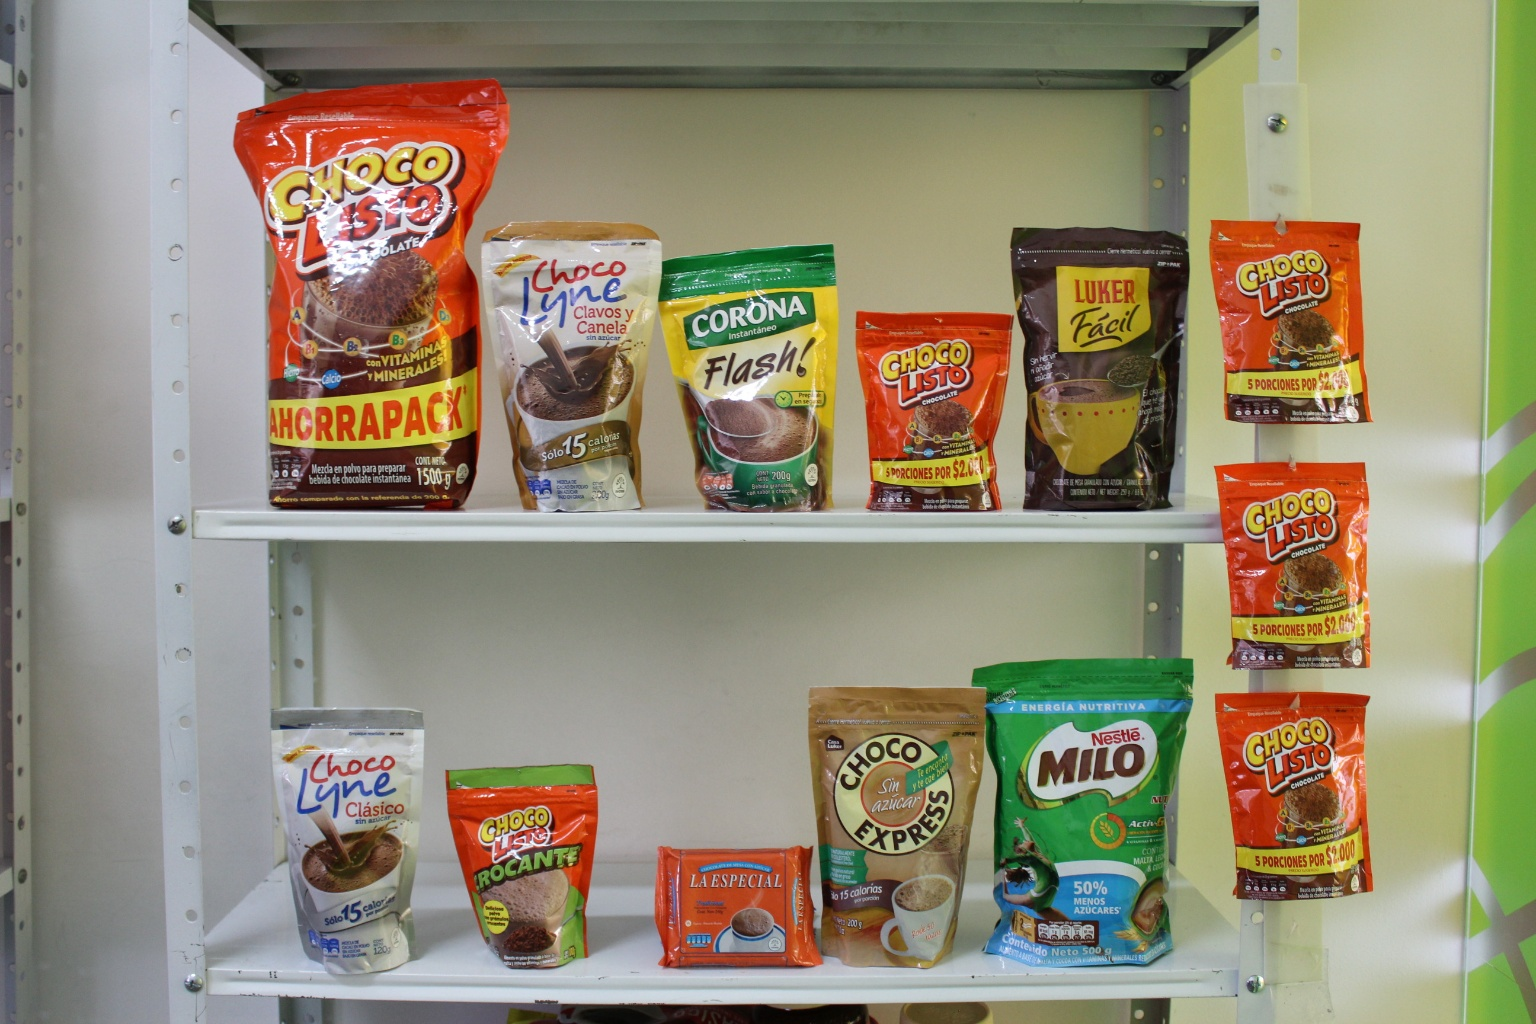COL0170102DYP10000: (434, 743, 614, 971)
COL0170103DYP1,500: (207, 69, 510, 517)
COL0170205DYP50000: (979, 646, 1197, 970)
